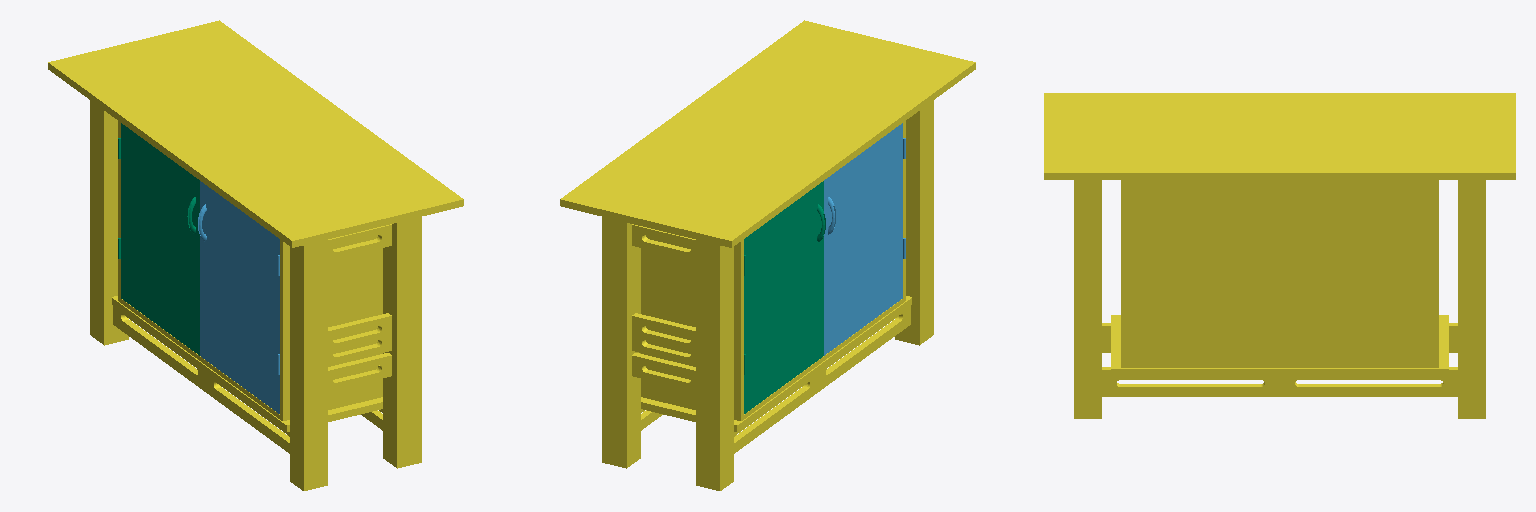
The robot description file, URDF, robot "partnet_1c70e72ac0eb77816349f6b5431fb3d1":
<?xml version='1.0' encoding='utf-8'?>
<robot name="partnet_1c70e72ac0eb77816349f6b5431fb3d1">
	<link name="base" />
	<link name="link_0">
		<visual name="cabinet_door_surface-75">
			<origin xyz="-0.5502011550737963 -0.4337239861488341 -0.21818256249133108" />
			<geometry>
				<mesh filename="textured_objs/original-63.obj" />
			</geometry>
		</visual>
		<visual name="cabinet_door_surface-75">
			<origin xyz="-0.5502011550737963 -0.4337239861488341 -0.21818256249133108" />
			<geometry>
				<mesh filename="textured_objs/original-55.obj" />
			</geometry>
		</visual>
		<visual name="cabinet_door_surface-75">
			<origin xyz="-0.5502011550737963 -0.4337239861488341 -0.21818256249133108" />
			<geometry>
				<mesh filename="textured_objs/original-58.obj" />
			</geometry>
		</visual>
		<visual name="cabinet_door_surface-75">
			<origin xyz="-0.5502011550737963 -0.4337239861488341 -0.21818256249133108" />
			<geometry>
				<mesh filename="textured_objs/original-60.obj" />
			</geometry>
		</visual>
		<visual name="cabinet_door_surface-75">
			<origin xyz="-0.5502011550737963 -0.4337239861488341 -0.21818256249133108" />
			<geometry>
				<mesh filename="textured_objs/original-57.obj" />
			</geometry>
		</visual>
		<visual name="handle-76">
			<origin xyz="-0.5502011550737963 -0.4337239861488341 -0.21818256249133108" />
			<geometry>
				<mesh filename="textured_objs/original-73.obj" />
			</geometry>
		</visual>
		<visual name="handle-76">
			<origin xyz="-0.5502011550737963 -0.4337239861488341 -0.21818256249133108" />
			<geometry>
				<mesh filename="textured_objs/original-77.obj" />
			</geometry>
		</visual>
		<visual name="handle-76">
			<origin xyz="-0.5502011550737963 -0.4337239861488341 -0.21818256249133108" />
			<geometry>
				<mesh filename="textured_objs/original-76.obj" />
			</geometry>
		</visual>
		<visual name="handle-76">
			<origin xyz="-0.5502011550737963 -0.4337239861488341 -0.21818256249133108" />
			<geometry>
				<mesh filename="textured_objs/original-74.obj" />
			</geometry>
		</visual>
		<visual name="hinge-77">
			<origin xyz="-0.5502011550737963 -0.4337239861488341 -0.21818256249133108" />
			<geometry>
				<mesh filename="textured_objs/original-61.obj" />
			</geometry>
		</visual>
		<visual name="hinge-78">
			<origin xyz="-0.5502011550737963 -0.4337239861488341 -0.21818256249133108" />
			<geometry>
				<mesh filename="textured_objs/original-62.obj" />
			</geometry>
		</visual>
		<collision>
			<origin xyz="-0.5502011550737963 -0.4337239861488341 -0.21818256249133108" />
			<geometry>
				<mesh filename="textured_objs/original-63.obj" />
			</geometry>
		</collision>
		<collision>
			<origin xyz="-0.5502011550737963 -0.4337239861488341 -0.21818256249133108" />
			<geometry>
				<mesh filename="textured_objs/original-55.obj" />
			</geometry>
		</collision>
		<collision>
			<origin xyz="-0.5502011550737963 -0.4337239861488341 -0.21818256249133108" />
			<geometry>
				<mesh filename="textured_objs/original-58.obj" />
			</geometry>
		</collision>
		<collision>
			<origin xyz="-0.5502011550737963 -0.4337239861488341 -0.21818256249133108" />
			<geometry>
				<mesh filename="textured_objs/original-60.obj" />
			</geometry>
		</collision>
		<collision>
			<origin xyz="-0.5502011550737963 -0.4337239861488341 -0.21818256249133108" />
			<geometry>
				<mesh filename="textured_objs/original-57.obj" />
			</geometry>
		</collision>
		<collision>
			<origin xyz="-0.5502011550737963 -0.4337239861488341 -0.21818256249133108" />
			<geometry>
				<mesh filename="textured_objs/original-73.obj" />
			</geometry>
		</collision>
		<collision>
			<origin xyz="-0.5502011550737963 -0.4337239861488341 -0.21818256249133108" />
			<geometry>
				<mesh filename="textured_objs/original-77.obj" />
			</geometry>
		</collision>
		<collision>
			<origin xyz="-0.5502011550737963 -0.4337239861488341 -0.21818256249133108" />
			<geometry>
				<mesh filename="textured_objs/original-76.obj" />
			</geometry>
		</collision>
		<collision>
			<origin xyz="-0.5502011550737963 -0.4337239861488341 -0.21818256249133108" />
			<geometry>
				<mesh filename="textured_objs/original-74.obj" />
			</geometry>
		</collision>
		<collision>
			<origin xyz="-0.5502011550737963 -0.4337239861488341 -0.21818256249133108" />
			<geometry>
				<mesh filename="textured_objs/original-61.obj" />
			</geometry>
		</collision>
		<collision>
			<origin xyz="-0.5502011550737963 -0.4337239861488341 -0.21818256249133108" />
			<geometry>
				<mesh filename="textured_objs/original-62.obj" />
			</geometry>
		</collision>
	</link>
	<joint name="joint_0" type="revolute">
		<origin xyz="0.5502011550737963 0.4337239861488341 0.21818256249133108" />
		<axis xyz="0 1 0" />
		<child link="link_0" />
		<parent link="link_2" />
		<limit lower="0.0" upper="2.9670597283903604" />
	</joint>
	<link name="link_1">
		<visual name="cabinet_door_surface-71">
			<origin xyz="0.5785958365213436 -0.43372398614883434 -0.21492041577430132" />
			<geometry>
				<mesh filename="textured_objs/original-45.obj" />
			</geometry>
		</visual>
		<visual name="cabinet_door_surface-71">
			<origin xyz="0.5785958365213436 -0.43372398614883434 -0.21492041577430132" />
			<geometry>
				<mesh filename="textured_objs/original-48.obj" />
			</geometry>
		</visual>
		<visual name="cabinet_door_surface-71">
			<origin xyz="0.5785958365213436 -0.43372398614883434 -0.21492041577430132" />
			<geometry>
				<mesh filename="textured_objs/original-50.obj" />
			</geometry>
		</visual>
		<visual name="cabinet_door_surface-71">
			<origin xyz="0.5785958365213436 -0.43372398614883434 -0.21492041577430132" />
			<geometry>
				<mesh filename="textured_objs/original-53.obj" />
			</geometry>
		</visual>
		<visual name="cabinet_door_surface-71">
			<origin xyz="0.5785958365213436 -0.43372398614883434 -0.21492041577430132" />
			<geometry>
				<mesh filename="textured_objs/original-47.obj" />
			</geometry>
		</visual>
		<visual name="handle-72">
			<origin xyz="0.5785958365213436 -0.43372398614883434 -0.21492041577430132" />
			<geometry>
				<mesh filename="textured_objs/original-67.obj" />
			</geometry>
		</visual>
		<visual name="handle-72">
			<origin xyz="0.5785958365213436 -0.43372398614883434 -0.21492041577430132" />
			<geometry>
				<mesh filename="textured_objs/original-69.obj" />
			</geometry>
		</visual>
		<visual name="handle-72">
			<origin xyz="0.5785958365213436 -0.43372398614883434 -0.21492041577430132" />
			<geometry>
				<mesh filename="textured_objs/original-66.obj" />
			</geometry>
		</visual>
		<visual name="handle-72">
			<origin xyz="0.5785958365213436 -0.43372398614883434 -0.21492041577430132" />
			<geometry>
				<mesh filename="textured_objs/original-70.obj" />
			</geometry>
		</visual>
		<visual name="hinge-73">
			<origin xyz="0.5785958365213436 -0.43372398614883434 -0.21492041577430132" />
			<geometry>
				<mesh filename="textured_objs/original-51.obj" />
			</geometry>
		</visual>
		<visual name="hinge-74">
			<origin xyz="0.5785958365213436 -0.43372398614883434 -0.21492041577430132" />
			<geometry>
				<mesh filename="textured_objs/original-52.obj" />
			</geometry>
		</visual>
		<collision>
			<origin xyz="0.5785958365213436 -0.43372398614883434 -0.21492041577430132" />
			<geometry>
				<mesh filename="textured_objs/original-45.obj" />
			</geometry>
		</collision>
		<collision>
			<origin xyz="0.5785958365213436 -0.43372398614883434 -0.21492041577430132" />
			<geometry>
				<mesh filename="textured_objs/original-48.obj" />
			</geometry>
		</collision>
		<collision>
			<origin xyz="0.5785958365213436 -0.43372398614883434 -0.21492041577430132" />
			<geometry>
				<mesh filename="textured_objs/original-50.obj" />
			</geometry>
		</collision>
		<collision>
			<origin xyz="0.5785958365213436 -0.43372398614883434 -0.21492041577430132" />
			<geometry>
				<mesh filename="textured_objs/original-53.obj" />
			</geometry>
		</collision>
		<collision>
			<origin xyz="0.5785958365213436 -0.43372398614883434 -0.21492041577430132" />
			<geometry>
				<mesh filename="textured_objs/original-47.obj" />
			</geometry>
		</collision>
		<collision>
			<origin xyz="0.5785958365213436 -0.43372398614883434 -0.21492041577430132" />
			<geometry>
				<mesh filename="textured_objs/original-67.obj" />
			</geometry>
		</collision>
		<collision>
			<origin xyz="0.5785958365213436 -0.43372398614883434 -0.21492041577430132" />
			<geometry>
				<mesh filename="textured_objs/original-69.obj" />
			</geometry>
		</collision>
		<collision>
			<origin xyz="0.5785958365213436 -0.43372398614883434 -0.21492041577430132" />
			<geometry>
				<mesh filename="textured_objs/original-66.obj" />
			</geometry>
		</collision>
		<collision>
			<origin xyz="0.5785958365213436 -0.43372398614883434 -0.21492041577430132" />
			<geometry>
				<mesh filename="textured_objs/original-70.obj" />
			</geometry>
		</collision>
		<collision>
			<origin xyz="0.5785958365213436 -0.43372398614883434 -0.21492041577430132" />
			<geometry>
				<mesh filename="textured_objs/original-51.obj" />
			</geometry>
		</collision>
		<collision>
			<origin xyz="0.5785958365213436 -0.43372398614883434 -0.21492041577430132" />
			<geometry>
				<mesh filename="textured_objs/original-52.obj" />
			</geometry>
		</collision>
	</link>
	<joint name="joint_1" type="revolute">
		<origin xyz="-0.5785958365213436 0.43372398614883434 0.21492041577430132" />
		<axis xyz="0 -1 0" />
		<child link="link_1" />
		<parent link="link_2" />
		<limit lower="-0.0" upper="2.9670597283903604" />
	</joint>
	<link name="link_2">
		<visual name="board-83">
			<origin xyz="0 0 0" />
			<geometry>
				<mesh filename="textured_objs/original-80.obj" />
			</geometry>
		</visual>
		<visual name="board-83">
			<origin xyz="0 0 0" />
			<geometry>
				<mesh filename="textured_objs/original-81.obj" />
			</geometry>
		</visual>
		<visual name="board-83">
			<origin xyz="0 0 0" />
			<geometry>
				<mesh filename="textured_objs/original-82.obj" />
			</geometry>
		</visual>
		<visual name="board-83">
			<origin xyz="0 0 0" />
			<geometry>
				<mesh filename="textured_objs/original-79.obj" />
			</geometry>
		</visual>
		<visual name="board-83">
			<origin xyz="0 0 0" />
			<geometry>
				<mesh filename="textured_objs/original-83.obj" />
			</geometry>
		</visual>
		<visual name="bar_stretcher-17">
			<origin xyz="0 0 0" />
			<geometry>
				<mesh filename="textured_objs/original-4.obj" />
			</geometry>
		</visual>
		<visual name="bar_stretcher-18">
			<origin xyz="0 0 0" />
			<geometry>
				<mesh filename="textured_objs/original-21.obj" />
			</geometry>
		</visual>
		<visual name="bar_stretcher-19">
			<origin xyz="0 0 0" />
			<geometry>
				<mesh filename="textured_objs/original-27.obj" />
			</geometry>
		</visual>
		<visual name="bar_stretcher-20">
			<origin xyz="0 0 0" />
			<geometry>
				<mesh filename="textured_objs/original-20.obj" />
			</geometry>
		</visual>
		<visual name="bar_stretcher-21">
			<origin xyz="0 0 0" />
			<geometry>
				<mesh filename="textured_objs/original-33.obj" />
			</geometry>
		</visual>
		<visual name="bar_stretcher-22">
			<origin xyz="0 0 0" />
			<geometry>
				<mesh filename="textured_objs/original-6.obj" />
			</geometry>
		</visual>
		<visual name="bar_stretcher-23">
			<origin xyz="0 0 0" />
			<geometry>
				<mesh filename="textured_objs/original-13.obj" />
			</geometry>
		</visual>
		<visual name="bar_stretcher-24">
			<origin xyz="0 0 0" />
			<geometry>
				<mesh filename="textured_objs/original-7.obj" />
			</geometry>
		</visual>
		<visual name="back_panel-63">
			<origin xyz="0 0 0" />
			<geometry>
				<mesh filename="textured_objs/original-38.obj" />
			</geometry>
		</visual>
		<visual name="vertical_side_panel-64">
			<origin xyz="0 0 0" />
			<geometry>
				<mesh filename="textured_objs/original-42.obj" />
			</geometry>
		</visual>
		<visual name="vertical_side_panel-65">
			<origin xyz="0 0 0" />
			<geometry>
				<mesh filename="textured_objs/original-39.obj" />
			</geometry>
		</visual>
		<visual name="bottom_panel-66">
			<origin xyz="0 0 0" />
			<geometry>
				<mesh filename="textured_objs/original-34.obj" />
			</geometry>
		</visual>
		<visual name="leg-67">
			<origin xyz="0 0 0" />
			<geometry>
				<mesh filename="textured_objs/original-11.obj" />
			</geometry>
		</visual>
		<visual name="leg-67">
			<origin xyz="0 0 0" />
			<geometry>
				<mesh filename="textured_objs/original-12.obj" />
			</geometry>
		</visual>
		<visual name="leg-67">
			<origin xyz="0 0 0" />
			<geometry>
				<mesh filename="textured_objs/original-9.obj" />
			</geometry>
		</visual>
		<visual name="leg-67">
			<origin xyz="0 0 0" />
			<geometry>
				<mesh filename="textured_objs/original-10.obj" />
			</geometry>
		</visual>
		<visual name="leg-68">
			<origin xyz="0 0 0" />
			<geometry>
				<mesh filename="textured_objs/original-15.obj" />
			</geometry>
		</visual>
		<visual name="leg-68">
			<origin xyz="0 0 0" />
			<geometry>
				<mesh filename="textured_objs/original-16.obj" />
			</geometry>
		</visual>
		<visual name="leg-68">
			<origin xyz="0 0 0" />
			<geometry>
				<mesh filename="textured_objs/original-18.obj" />
			</geometry>
		</visual>
		<visual name="leg-68">
			<origin xyz="0 0 0" />
			<geometry>
				<mesh filename="textured_objs/original-17.obj" />
			</geometry>
		</visual>
		<visual name="leg-69">
			<origin xyz="0 0 0" />
			<geometry>
				<mesh filename="textured_objs/original-30.obj" />
			</geometry>
		</visual>
		<visual name="leg-69">
			<origin xyz="0 0 0" />
			<geometry>
				<mesh filename="textured_objs/original-29.obj" />
			</geometry>
		</visual>
		<visual name="leg-69">
			<origin xyz="0 0 0" />
			<geometry>
				<mesh filename="textured_objs/original-31.obj" />
			</geometry>
		</visual>
		<visual name="leg-69">
			<origin xyz="0 0 0" />
			<geometry>
				<mesh filename="textured_objs/original-32.obj" />
			</geometry>
		</visual>
		<visual name="leg-70">
			<origin xyz="0 0 0" />
			<geometry>
				<mesh filename="textured_objs/original-24.obj" />
			</geometry>
		</visual>
		<visual name="leg-70">
			<origin xyz="0 0 0" />
			<geometry>
				<mesh filename="textured_objs/original-25.obj" />
			</geometry>
		</visual>
		<visual name="leg-70">
			<origin xyz="0 0 0" />
			<geometry>
				<mesh filename="textured_objs/original-26.obj" />
			</geometry>
		</visual>
		<visual name="leg-70">
			<origin xyz="0 0 0" />
			<geometry>
				<mesh filename="textured_objs/original-23.obj" />
			</geometry>
		</visual>
		<visual name="vertical_front_panel-79">
			<origin xyz="0 0 0" />
			<geometry>
				<mesh filename="textured_objs/original-37.obj" />
			</geometry>
		</visual>
		<visual name="vertical_front_panel-79">
			<origin xyz="0 0 0" />
			<geometry>
				<mesh filename="textured_objs/original-40.obj" />
			</geometry>
		</visual>
		<visual name="shelf-84">
			<origin xyz="0 0 0" />
			<geometry>
				<mesh filename="textured_objs/original-41.obj" />
			</geometry>
		</visual>
		<collision>
			<origin xyz="0 0 0" />
			<geometry>
				<mesh filename="textured_objs/original-80.obj" />
			</geometry>
		</collision>
		<collision>
			<origin xyz="0 0 0" />
			<geometry>
				<mesh filename="textured_objs/original-81.obj" />
			</geometry>
		</collision>
		<collision>
			<origin xyz="0 0 0" />
			<geometry>
				<mesh filename="textured_objs/original-82.obj" />
			</geometry>
		</collision>
		<collision>
			<origin xyz="0 0 0" />
			<geometry>
				<mesh filename="textured_objs/original-79.obj" />
			</geometry>
		</collision>
		<collision>
			<origin xyz="0 0 0" />
			<geometry>
				<mesh filename="textured_objs/original-83.obj" />
			</geometry>
		</collision>
		<collision>
			<origin xyz="0 0 0" />
			<geometry>
				<mesh filename="textured_objs/original-4.obj" />
			</geometry>
		</collision>
		<collision>
			<origin xyz="0 0 0" />
			<geometry>
				<mesh filename="textured_objs/original-21.obj" />
			</geometry>
		</collision>
		<collision>
			<origin xyz="0 0 0" />
			<geometry>
				<mesh filename="textured_objs/original-27.obj" />
			</geometry>
		</collision>
		<collision>
			<origin xyz="0 0 0" />
			<geometry>
				<mesh filename="textured_objs/original-20.obj" />
			</geometry>
		</collision>
		<collision>
			<origin xyz="0 0 0" />
			<geometry>
				<mesh filename="textured_objs/original-33.obj" />
			</geometry>
		</collision>
		<collision>
			<origin xyz="0 0 0" />
			<geometry>
				<mesh filename="textured_objs/original-6.obj" />
			</geometry>
		</collision>
		<collision>
			<origin xyz="0 0 0" />
			<geometry>
				<mesh filename="textured_objs/original-13.obj" />
			</geometry>
		</collision>
		<collision>
			<origin xyz="0 0 0" />
			<geometry>
				<mesh filename="textured_objs/original-7.obj" />
			</geometry>
		</collision>
		<collision>
			<origin xyz="0 0 0" />
			<geometry>
				<mesh filename="textured_objs/original-38.obj" />
			</geometry>
		</collision>
		<collision>
			<origin xyz="0 0 0" />
			<geometry>
				<mesh filename="textured_objs/original-42.obj" />
			</geometry>
		</collision>
		<collision>
			<origin xyz="0 0 0" />
			<geometry>
				<mesh filename="textured_objs/original-39.obj" />
			</geometry>
		</collision>
		<collision>
			<origin xyz="0 0 0" />
			<geometry>
				<mesh filename="textured_objs/original-34.obj" />
			</geometry>
		</collision>
		<collision>
			<origin xyz="0 0 0" />
			<geometry>
				<mesh filename="textured_objs/original-11.obj" />
			</geometry>
		</collision>
		<collision>
			<origin xyz="0 0 0" />
			<geometry>
				<mesh filename="textured_objs/original-12.obj" />
			</geometry>
		</collision>
		<collision>
			<origin xyz="0 0 0" />
			<geometry>
				<mesh filename="textured_objs/original-9.obj" />
			</geometry>
		</collision>
		<collision>
			<origin xyz="0 0 0" />
			<geometry>
				<mesh filename="textured_objs/original-10.obj" />
			</geometry>
		</collision>
		<collision>
			<origin xyz="0 0 0" />
			<geometry>
				<mesh filename="textured_objs/original-15.obj" />
			</geometry>
		</collision>
		<collision>
			<origin xyz="0 0 0" />
			<geometry>
				<mesh filename="textured_objs/original-16.obj" />
			</geometry>
		</collision>
		<collision>
			<origin xyz="0 0 0" />
			<geometry>
				<mesh filename="textured_objs/original-18.obj" />
			</geometry>
		</collision>
		<collision>
			<origin xyz="0 0 0" />
			<geometry>
				<mesh filename="textured_objs/original-17.obj" />
			</geometry>
		</collision>
		<collision>
			<origin xyz="0 0 0" />
			<geometry>
				<mesh filename="textured_objs/original-30.obj" />
			</geometry>
		</collision>
		<collision>
			<origin xyz="0 0 0" />
			<geometry>
				<mesh filename="textured_objs/original-29.obj" />
			</geometry>
		</collision>
		<collision>
			<origin xyz="0 0 0" />
			<geometry>
				<mesh filename="textured_objs/original-31.obj" />
			</geometry>
		</collision>
		<collision>
			<origin xyz="0 0 0" />
			<geometry>
				<mesh filename="textured_objs/original-32.obj" />
			</geometry>
		</collision>
		<collision>
			<origin xyz="0 0 0" />
			<geometry>
				<mesh filename="textured_objs/original-24.obj" />
			</geometry>
		</collision>
		<collision>
			<origin xyz="0 0 0" />
			<geometry>
				<mesh filename="textured_objs/original-25.obj" />
			</geometry>
		</collision>
		<collision>
			<origin xyz="0 0 0" />
			<geometry>
				<mesh filename="textured_objs/original-26.obj" />
			</geometry>
		</collision>
		<collision>
			<origin xyz="0 0 0" />
			<geometry>
				<mesh filename="textured_objs/original-23.obj" />
			</geometry>
		</collision>
		<collision>
			<origin xyz="0 0 0" />
			<geometry>
				<mesh filename="textured_objs/original-37.obj" />
			</geometry>
		</collision>
		<collision>
			<origin xyz="0 0 0" />
			<geometry>
				<mesh filename="textured_objs/original-40.obj" />
			</geometry>
		</collision>
		<collision>
			<origin xyz="0 0 0" />
			<geometry>
				<mesh filename="textured_objs/original-41.obj" />
			</geometry>
		</collision>
	</link>
	<joint name="joint_2" type="fixed">
		<origin rpy="1.570796326794897 0 -1.570796326794897" xyz="0 0 0" />
		<child link="link_2" />
		<parent link="base" />
	</joint>
</robot>

--- What the picture shows (computed from the rendered views, not written in the file) ---
The picture shows the robot from 3 angles, left to right: view 1: azimuth 30°, elevation 25°; view 2: azimuth 150°, elevation 25°; view 3: azimuth 270°, elevation 25°; orthographic projection.
Robot: partnet_1c70e72ac0eb77816349f6b5431fb3d1 — 4 links, 3 joints (2 revolute, 1 fixed); root link base; default pose: all joints at 0.
Links seen in each view (by area): view 1: link_2, link_0, link_1; view 2: link_2, link_1, link_0; view 3: link_2.
Boxes of the visible links, x1,y1,x2,y2 form: link_2: (48, 20, 463, 490); link_0: (198, 181, 279, 413); link_1: (118, 123, 199, 355); link_2: (560, 20, 975, 490); link_1: (744, 181, 825, 413); link_0: (824, 123, 905, 355); link_2: (1044, 93, 1515, 418).
Size in the robot's own frame: 0.7003 by 1.73 by 1.05 metres.
Meshes: 58 distinct files referenced, 58 mesh visuals loaded (58 OBJ).